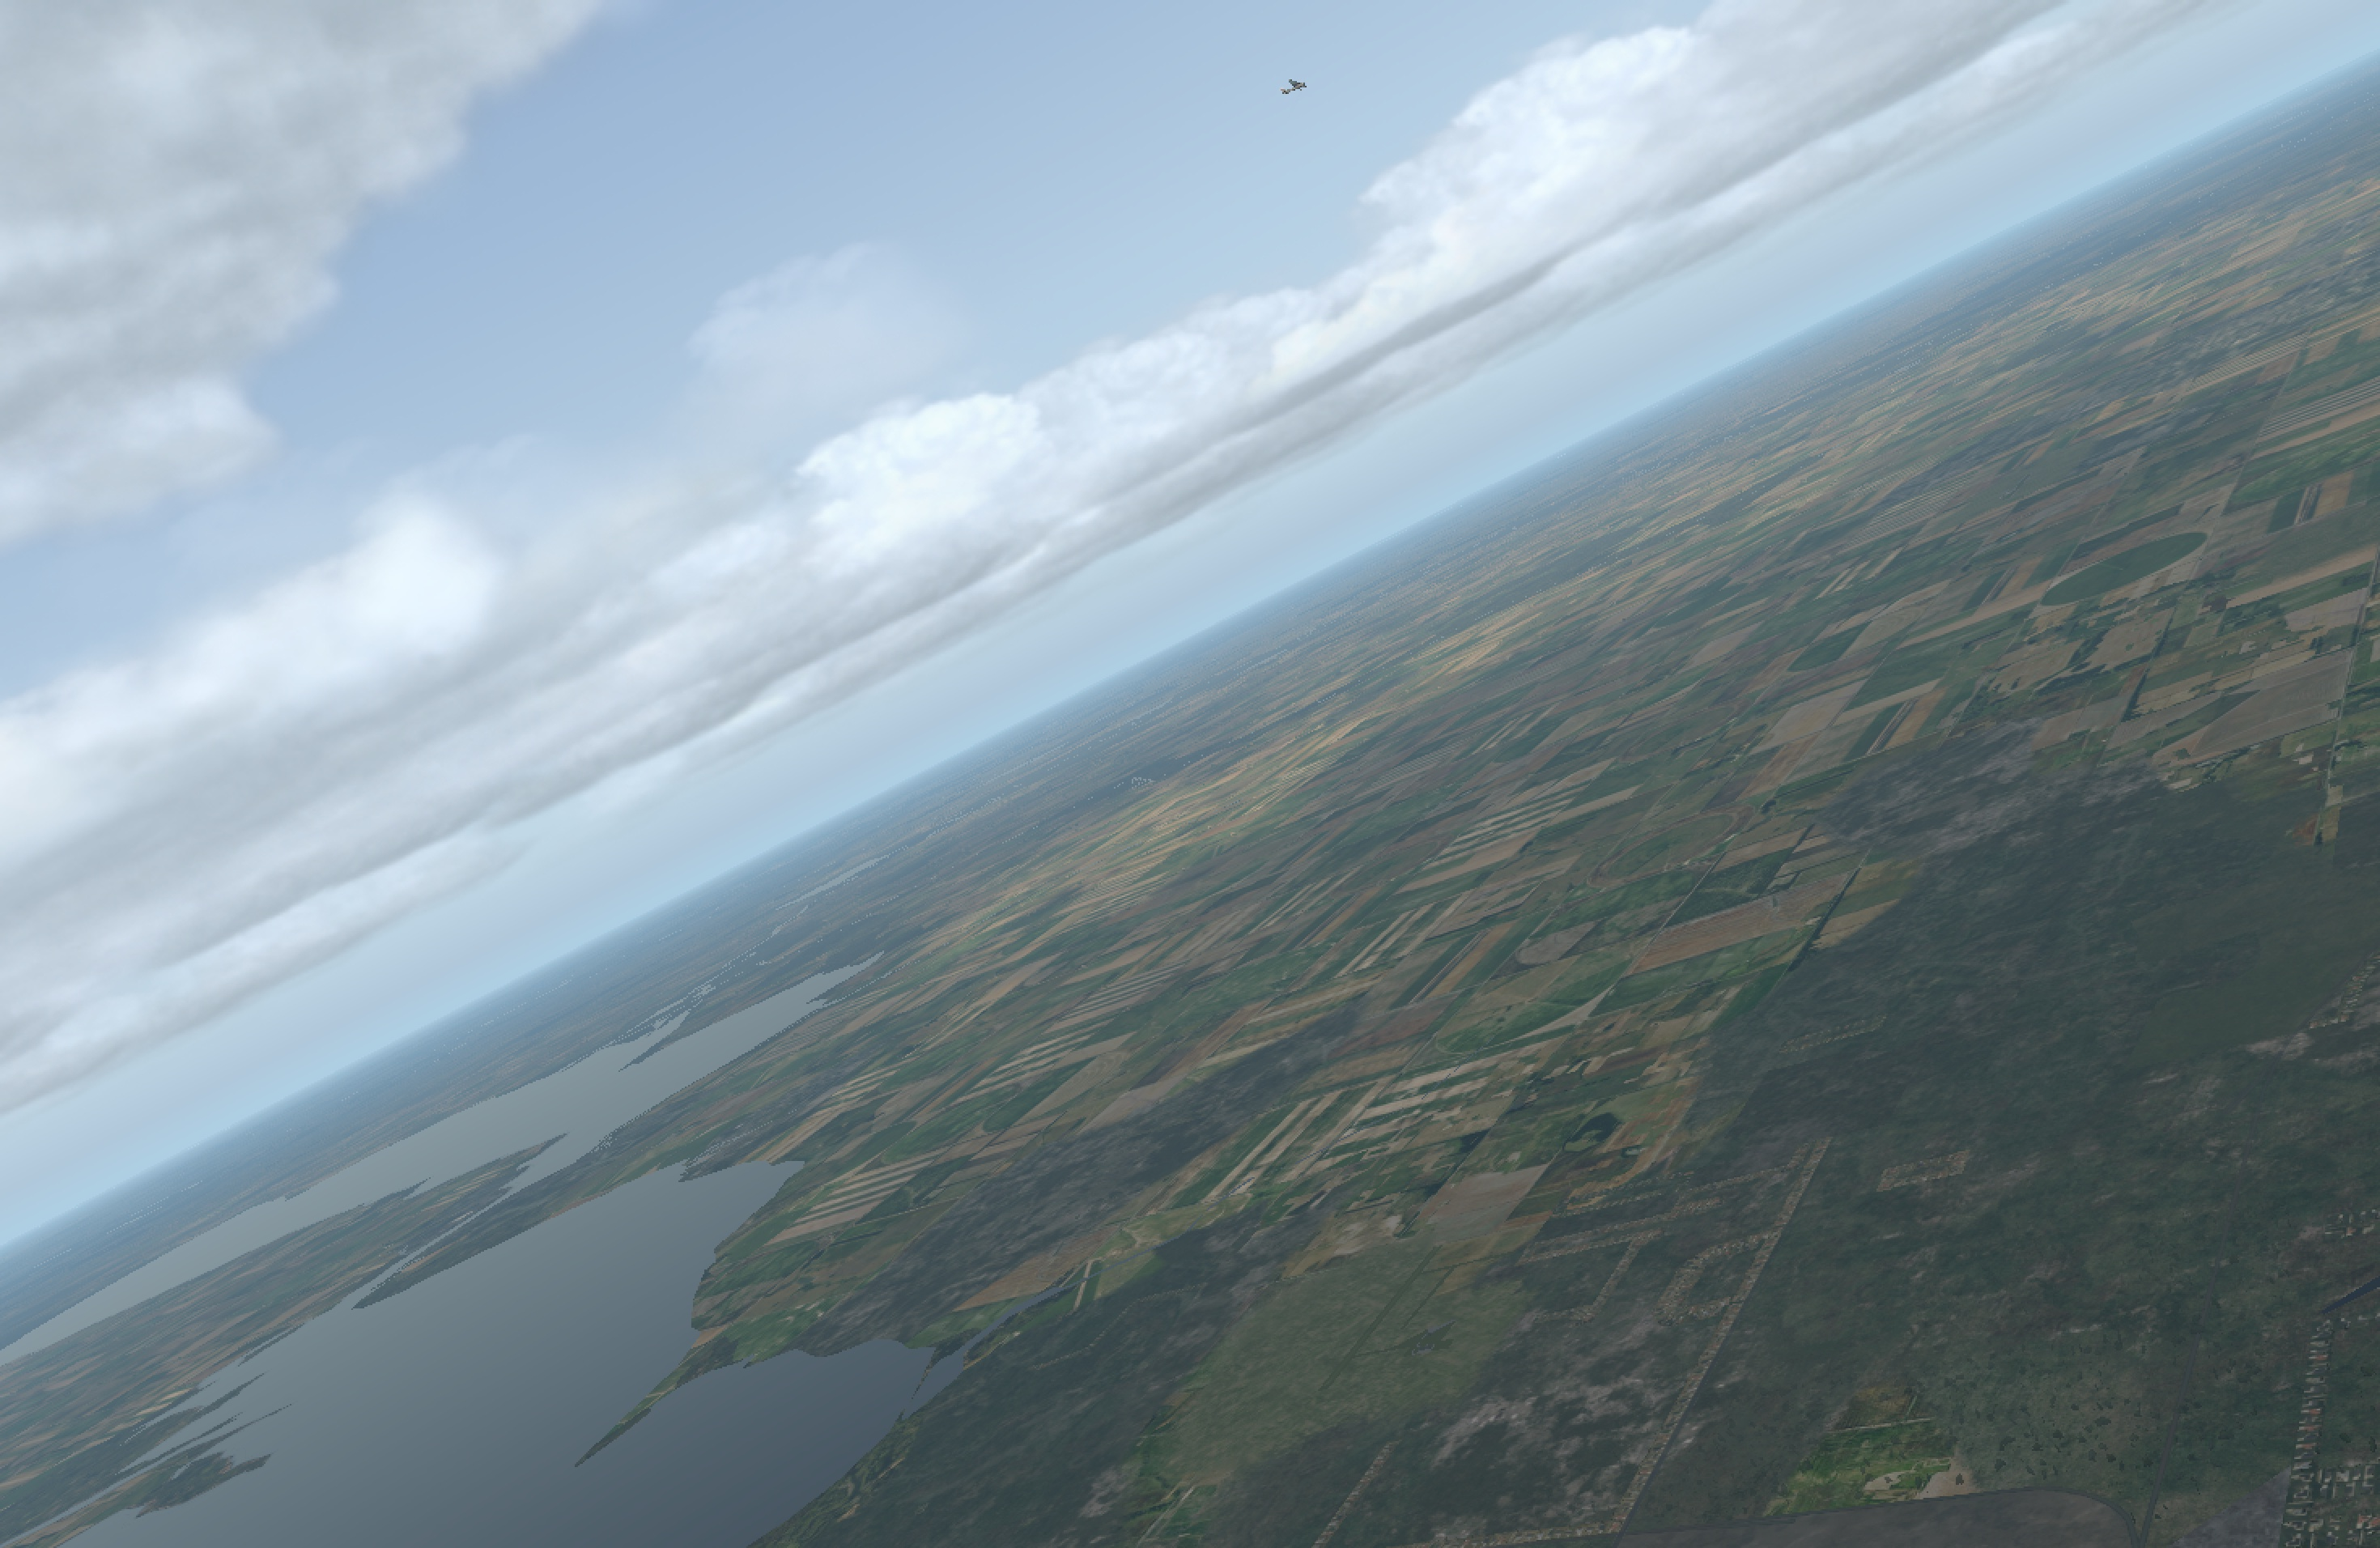aircraft: (1285, 82, 1311, 90)
